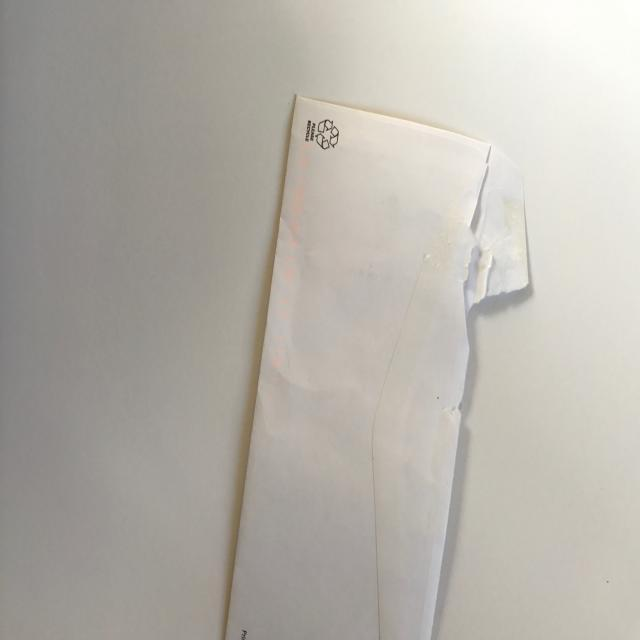paper: (219, 93, 530, 640)
